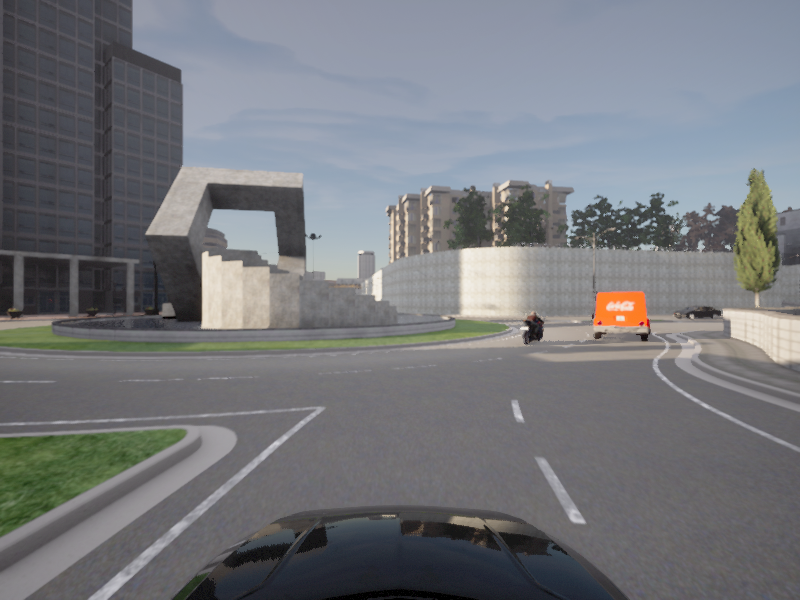vehicle: (0, 0, 799, 599), (590, 290, 652, 342), (514, 310, 550, 346)
